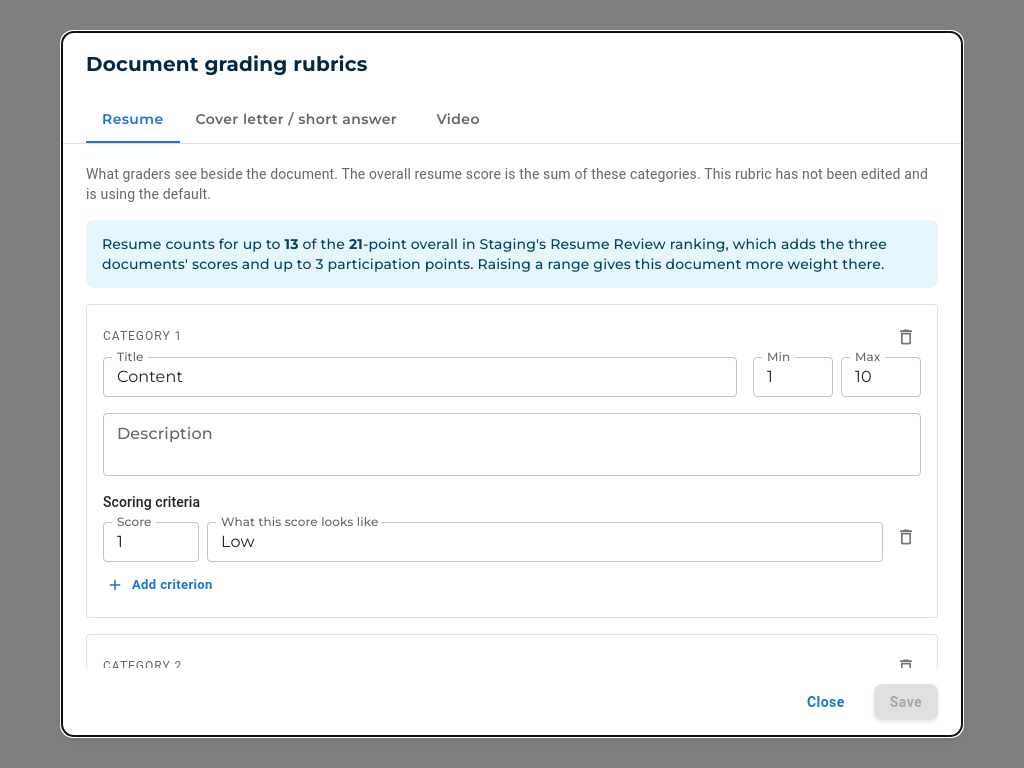
DocumentRubricEditorDialog › warns about out-of-range scores and saves only on "Save anyway"
expect the field showing "Content" is shown: met, box [103,357,737,397]
Replace the text in the field labelled "Max" with "8" at (881, 377), box [841,357,921,397]
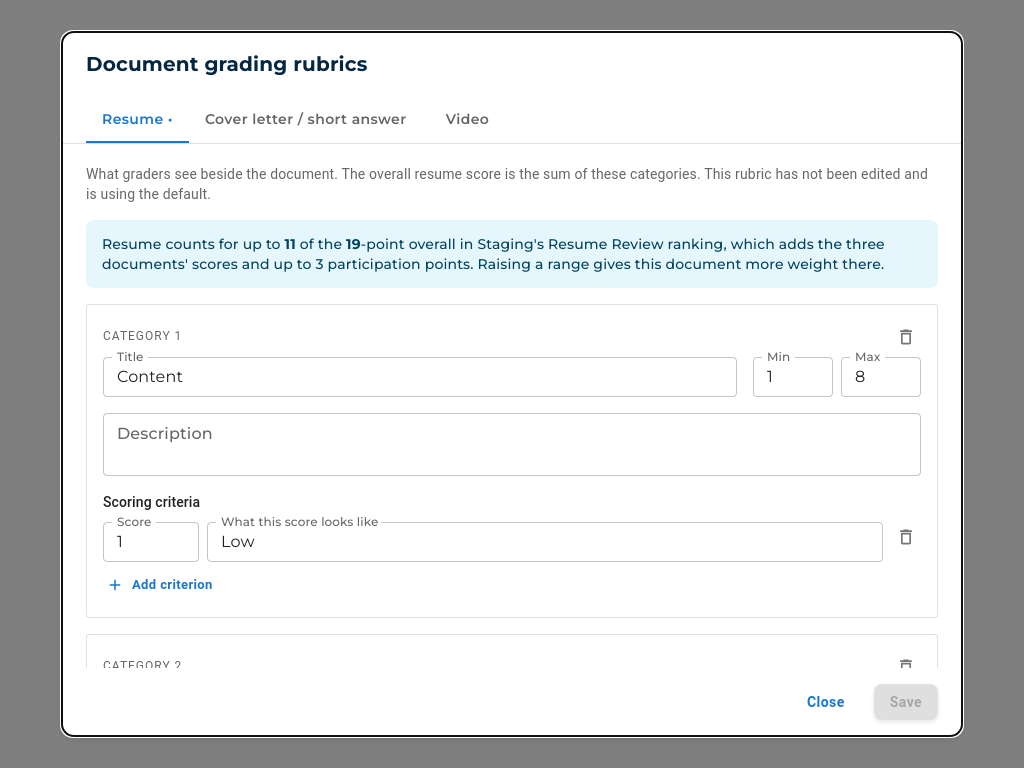
Click the button "Save" at (906, 702), box [874,684,938,720]
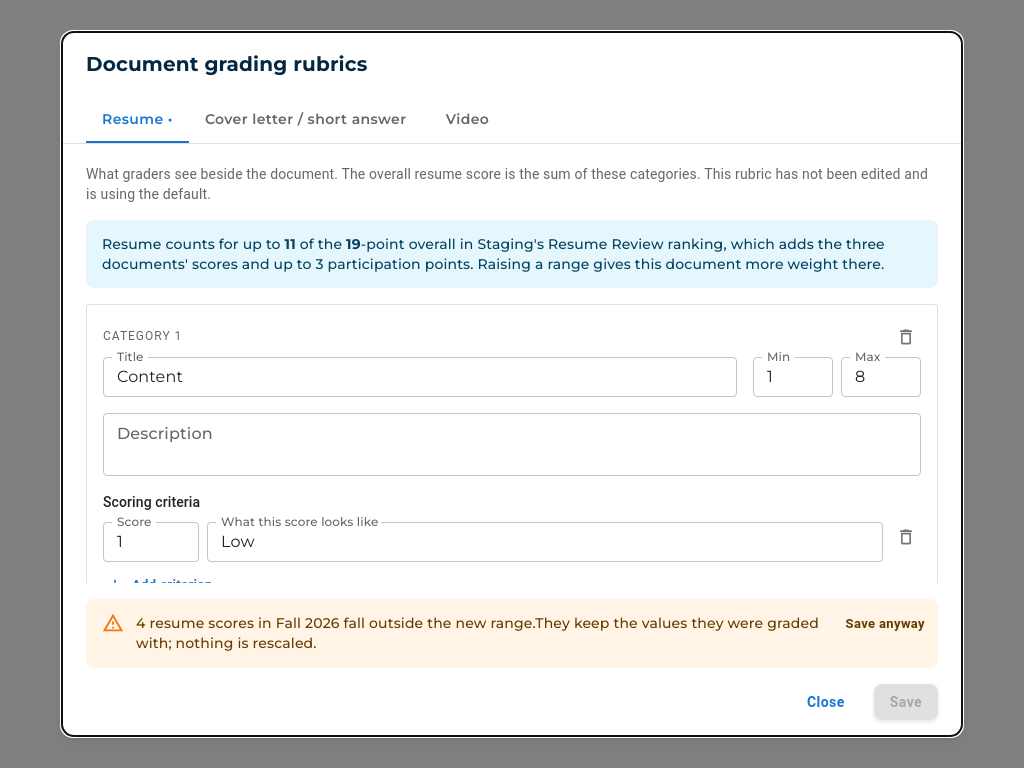
expect the text "fall outside the new range" shows "4 resume scores in Fall 2026 fall outside the new range": met, box [136,606,824,662]
Click the button "Save anyway" at (885, 625), box [840,610,930,640]
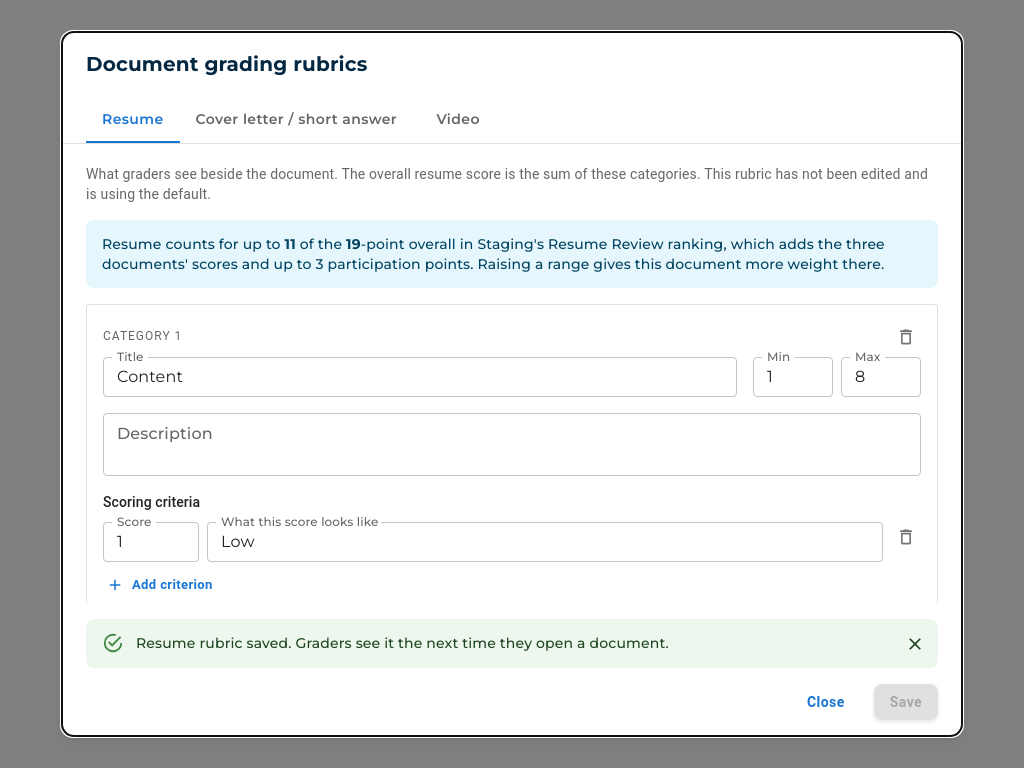
expect the text "Resume rubric saved" is shown: met, box [136,634,669,652]
